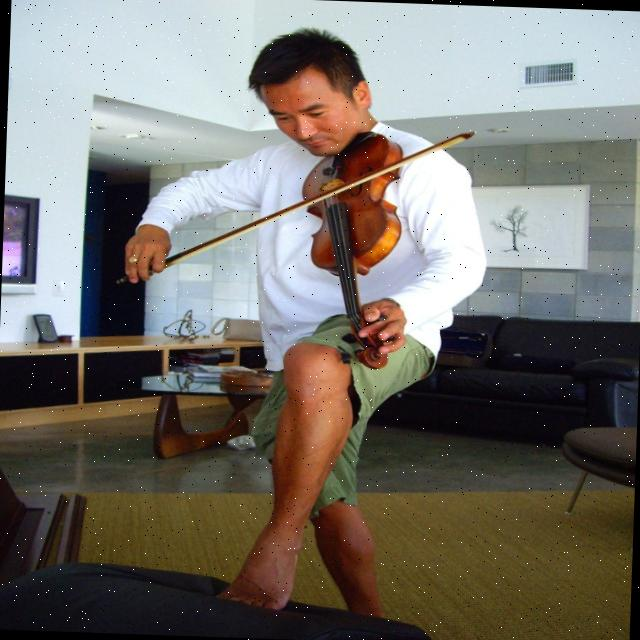violin: (292, 127, 422, 371)
